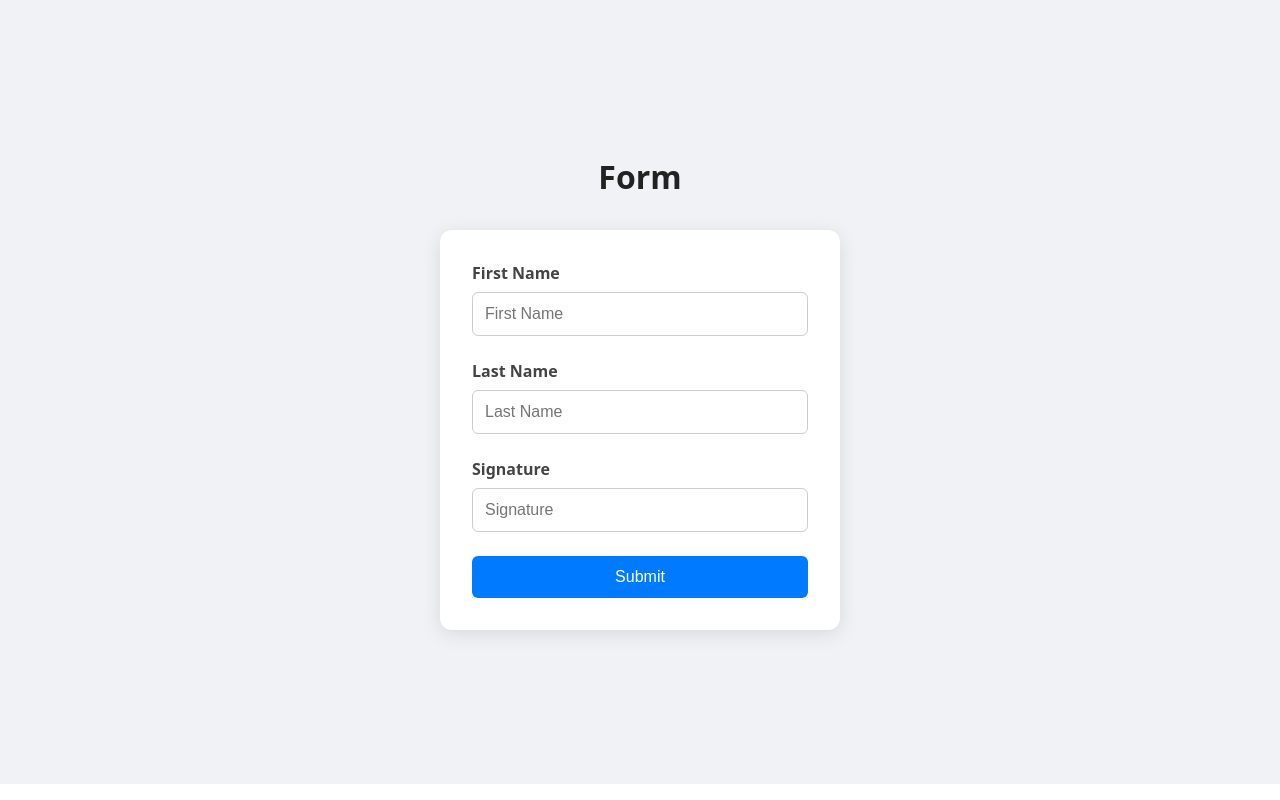
App Form › validates invalid signature does not match first 3 chars + last name
The image size is (1280, 800).
In the field labelled "First Name": (640, 314) [472,292,808,336], type "Nadeem"
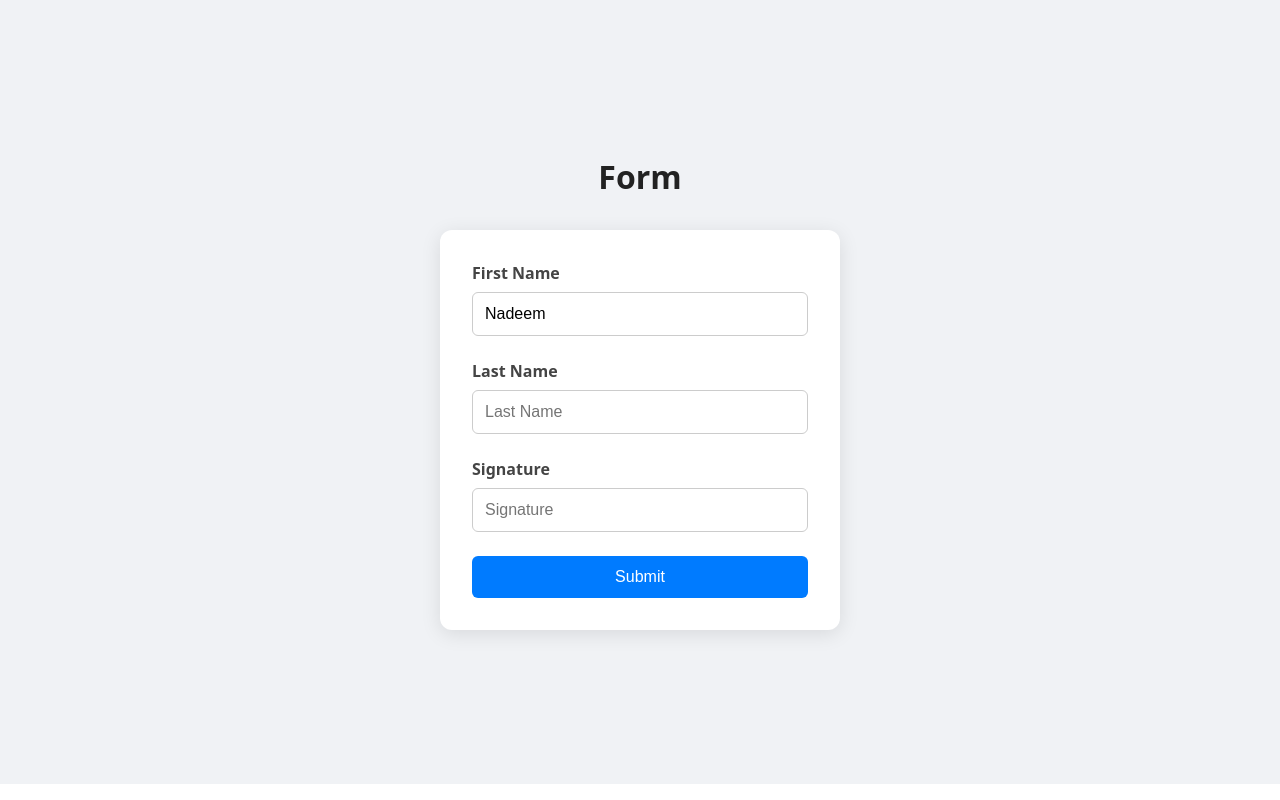
In the field labelled "Last Name": (640, 412) [472,390,808,434], type "Asgar"
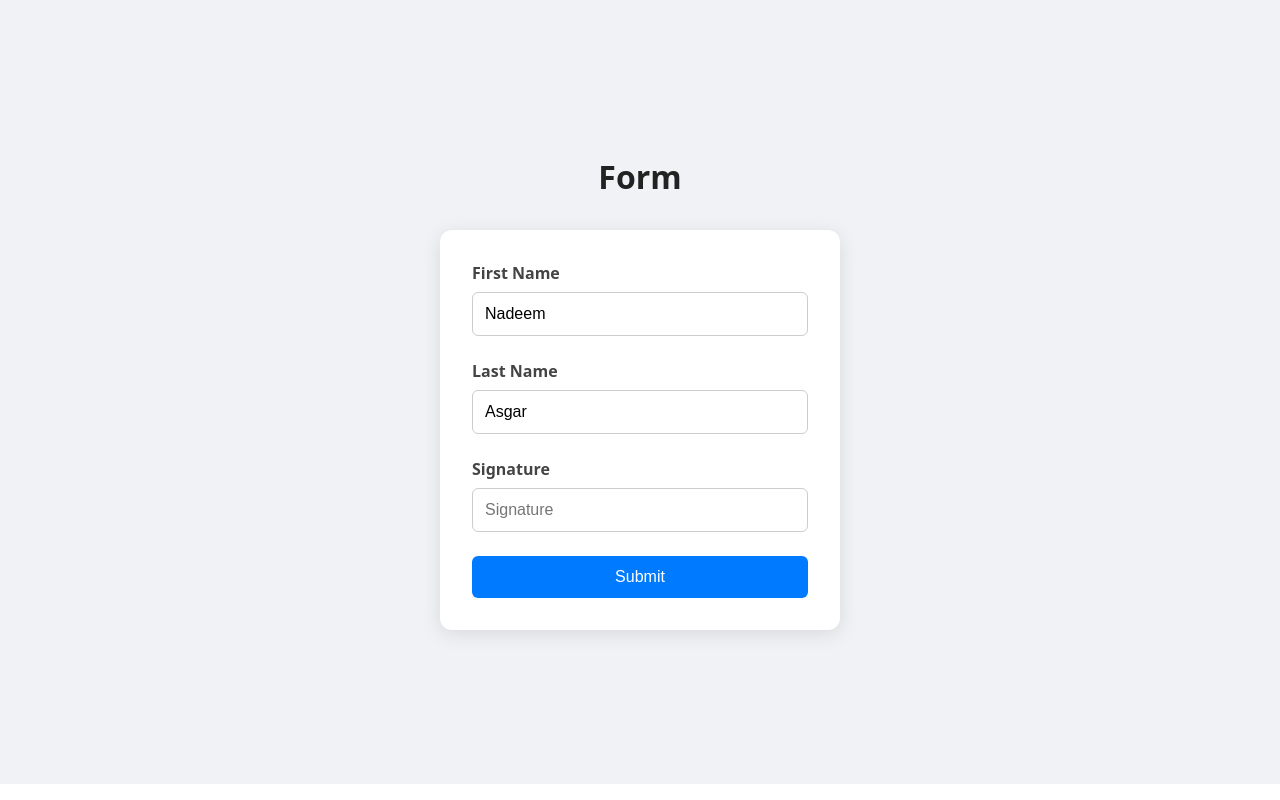
In the field labelled "Signature": (640, 510) [472,488,808,532], type "invalid signature"
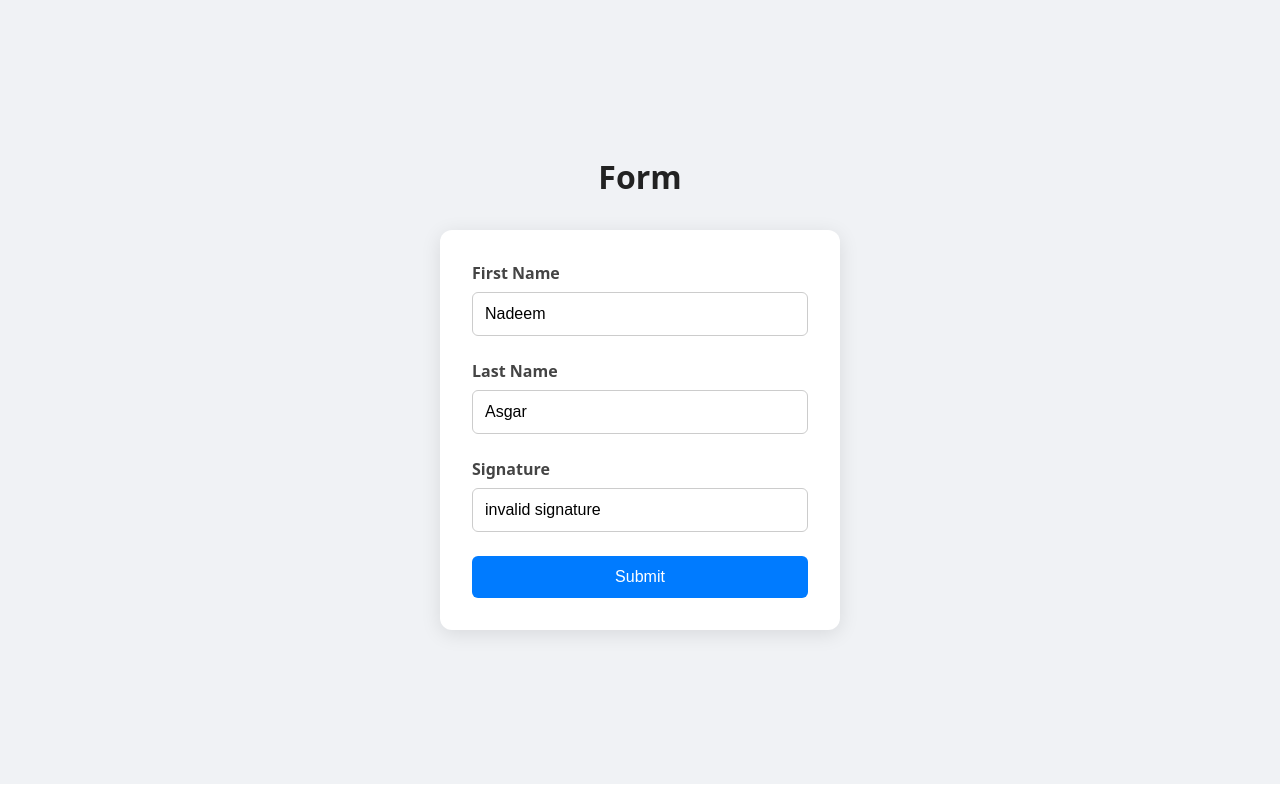
Click the button "Submit": (640, 576) [472,556,808,598]
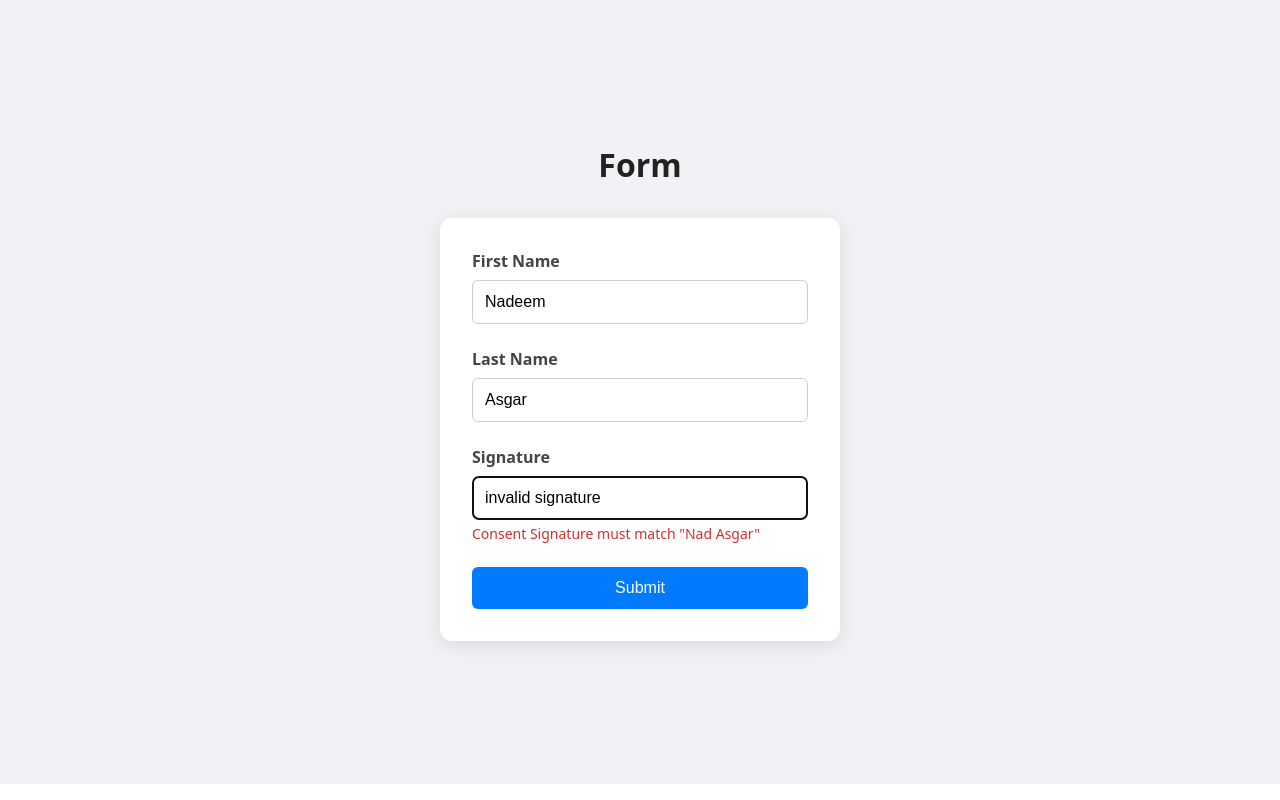
expect the text "Consent Signature must match \"Nad Asgar\"" is shown: met, box [472,524,808,543]
